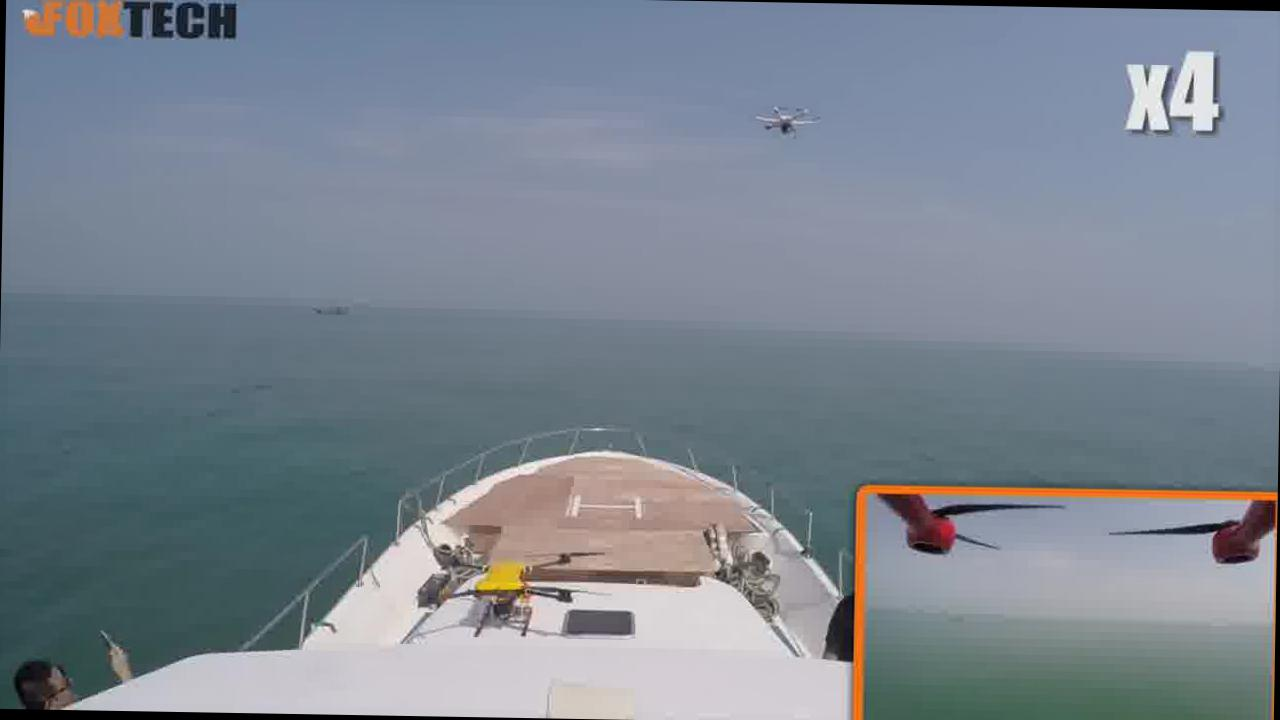drone: (386, 523, 588, 643), (740, 86, 836, 152)
